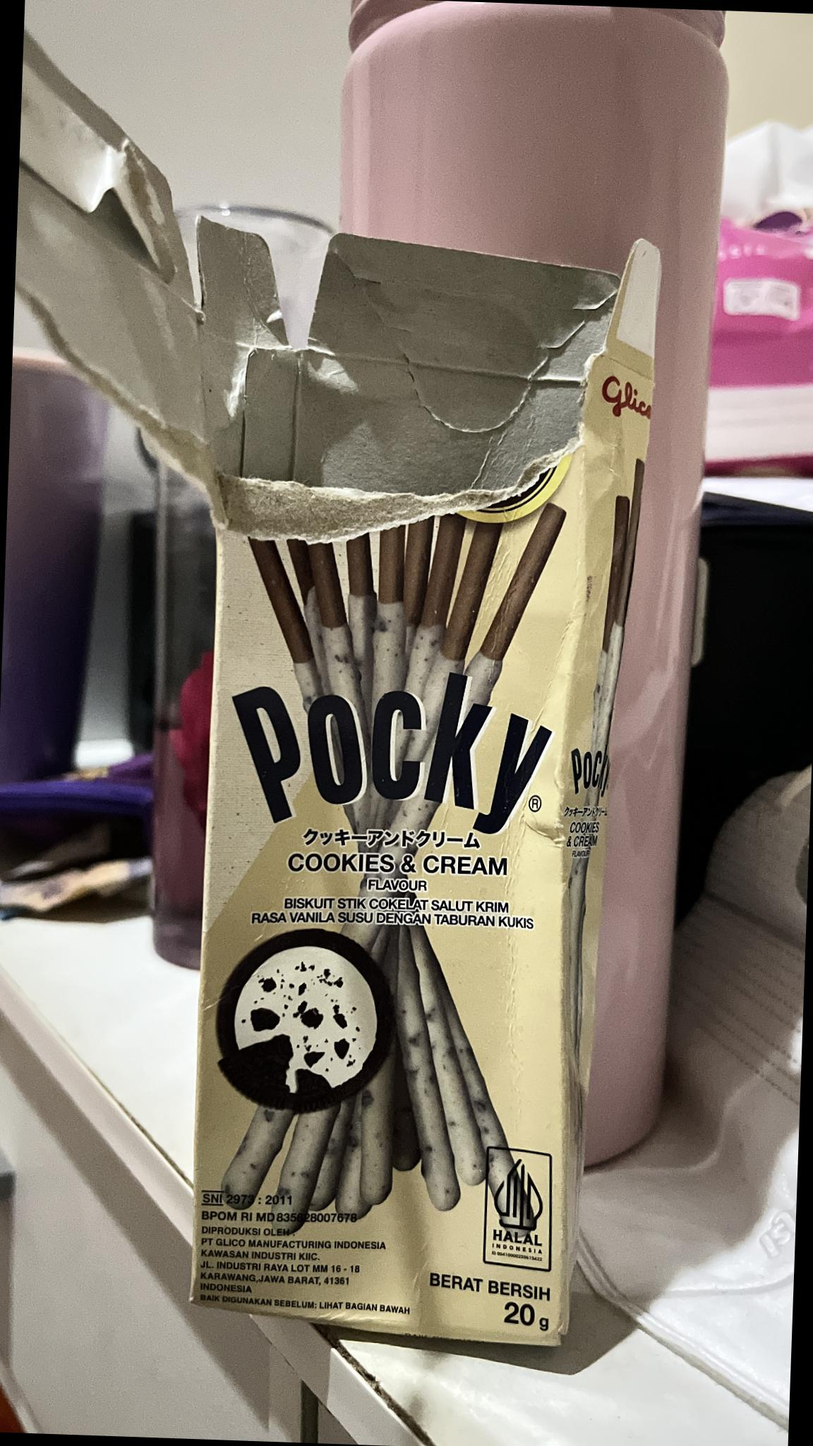Kertas: (188, 345, 593, 1351)
